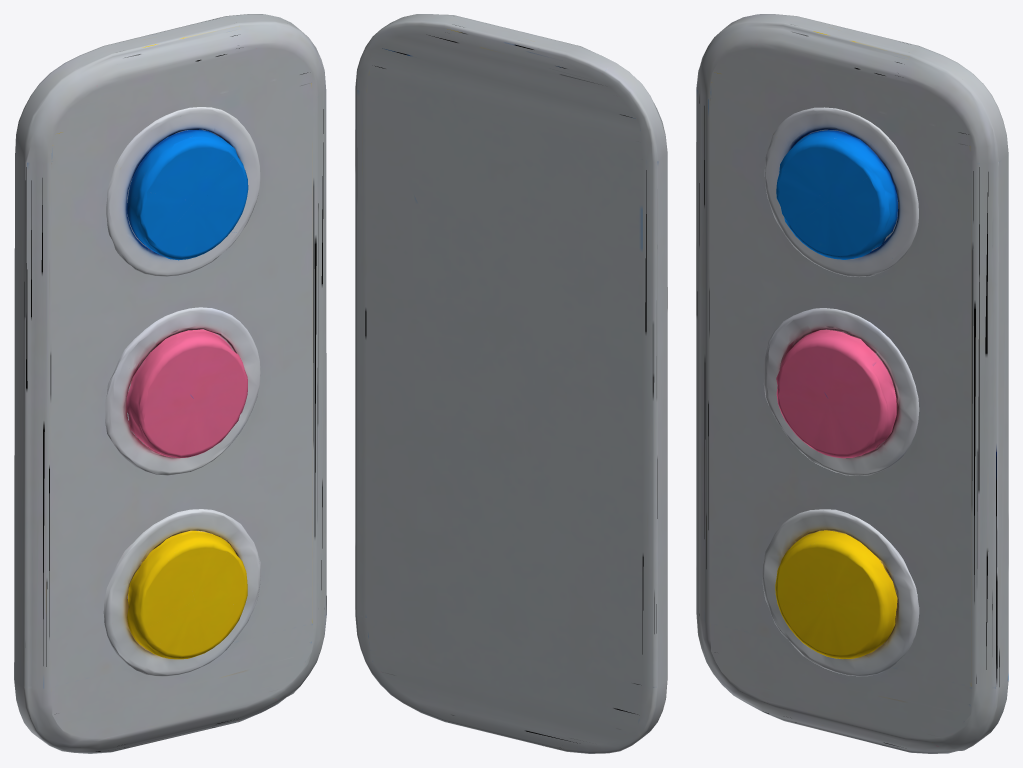
Rendered from elevator_panel.glb.
3 views of the same model, side by side, from view 1: azimuth 30°, elevation 25°; view 2: azimuth 150°, elevation 25°; view 3: azimuth 330°, elevation 25° (orthographic).
Visible parts, largest first — view 1: geometry_0; view 2: geometry_0; view 3: geometry_0.
Boxes of the visible parts, x1,y1,x2,y2 form: geometry_0: (14, 14, 326, 753); geometry_0: (355, 14, 667, 753); geometry_0: (696, 14, 1008, 753).
Size of the model in its own units: 0.4302 by 0.9507 by 0.0762.
Materials: 1 (1 with a texture image).
